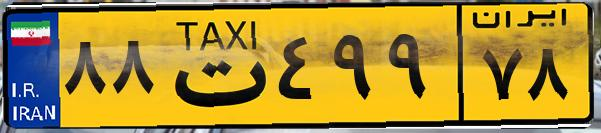4: (270, 28, 330, 110)
7: (475, 38, 525, 113)
8: (57, 26, 110, 100), (525, 38, 570, 115), (110, 28, 158, 98)
9: (385, 28, 445, 110), (330, 28, 385, 110)
ت: (158, 12, 270, 120)
